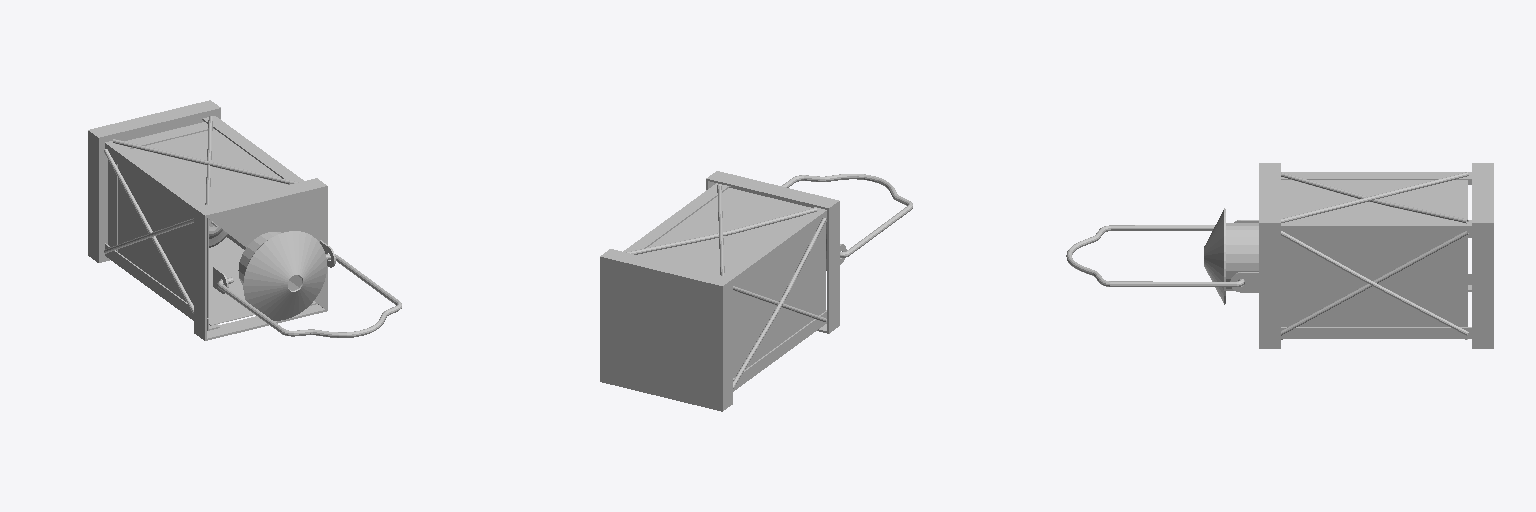
Rendered from Black_Lantern_B.obj.
The picture shows the model from 3 angles: view 1: azimuth 30°, elevation 25°; view 2: azimuth 150°, elevation 25°; view 3: azimuth 270°, elevation 25°; orthographic projection.
Visible parts, largest first — view 1: Object02, Object06; view 2: Object02, Object06; view 3: Object02, Object06.
Part boxes in pixels (x1,y1,x2,y2): Object02: (88,100,401,340); Object06: (118,129,287,325); Object02: (600,171,912,411); Object06: (643,188,825,374); Object02: (1066,163,1493,348); Object06: (1281,180,1450,326).
Bounding box in the file's own units: 9.73 × 9.51 × 29.34.